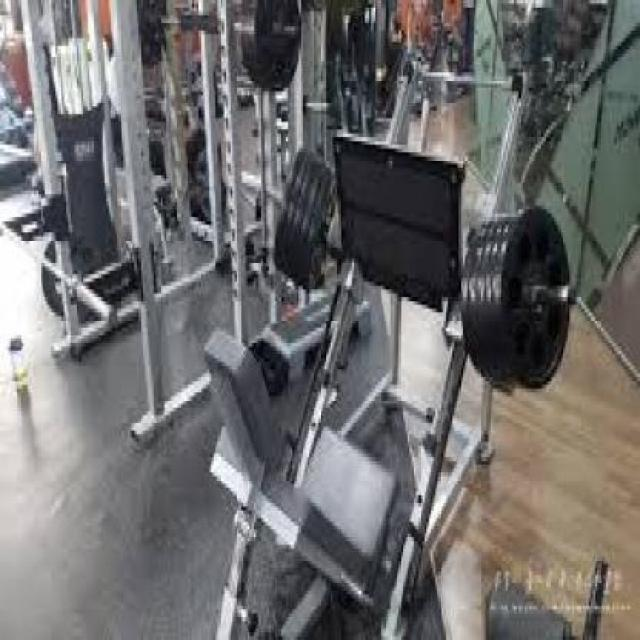leg press: (195, 64, 592, 640)
